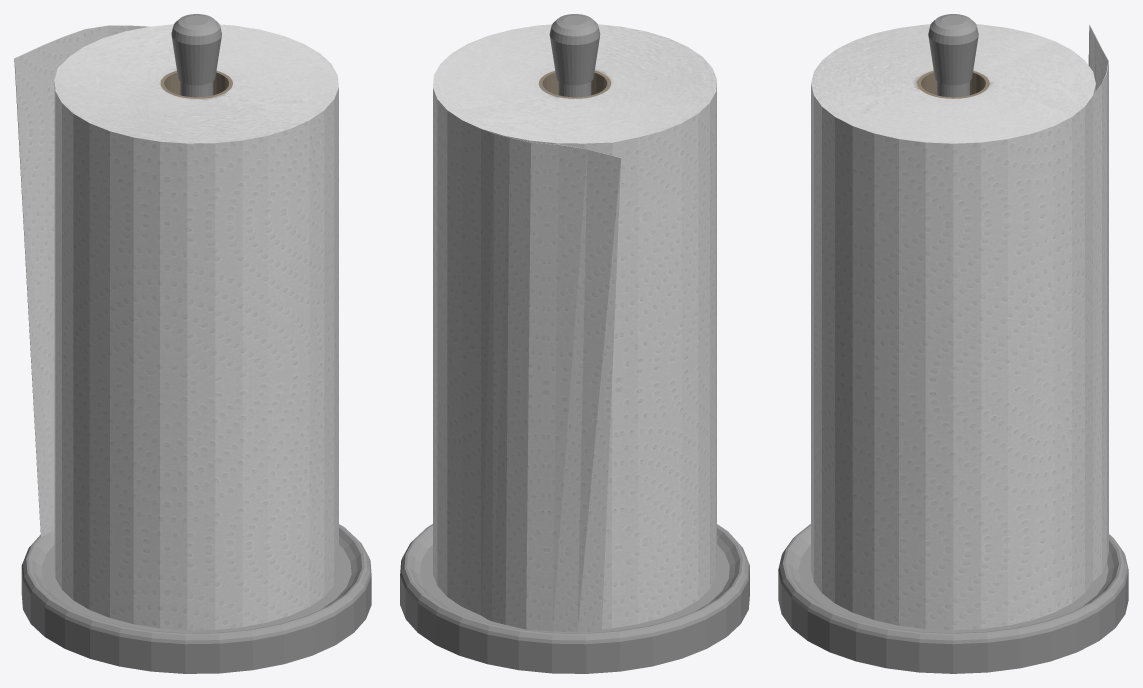
The model's file is sweethome3d-scopia-paper-towel-holder.glb.
The picture shows the model from 3 angles, left to right: view 1: azimuth 30°, elevation 25°; view 2: azimuth 150°, elevation 25°; view 3: azimuth 270°, elevation 25°; orthographic projection.
Parts seen in each view (by area): view 1: paper_Cylinder.001, base_Cylinder; view 2: paper_Cylinder.001, base_Cylinder; view 3: paper_Cylinder.001, base_Cylinder.
Boxes of the visible parts, left/top/right/bottom form: paper_Cylinder.001: left=14, top=24, right=338, bottom=630; base_Cylinder: left=21, top=14, right=371, bottom=673; paper_Cylinder.001: left=433, top=24, right=716, bottom=632; base_Cylinder: left=400, top=14, right=749, bottom=673; paper_Cylinder.001: left=811, top=24, right=1108, bottom=630; base_Cylinder: left=778, top=14, right=1128, bottom=673.
Bounding box in the file's own units: 16 × 29.19 × 16.
Materials: 4 (2 with a texture image).
